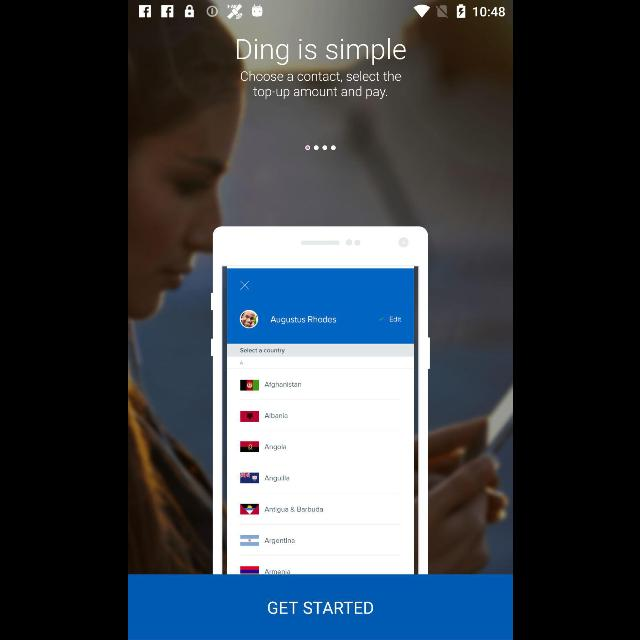backgroundimage: (128, 23, 512, 574)
image: (209, 226, 429, 574)
pageindicator: (304, 145, 336, 151)
text: (240, 70, 400, 100), (236, 38, 406, 66)
textbutton: (128, 574, 512, 640)
uppertaskbar: (128, 1, 512, 23)
